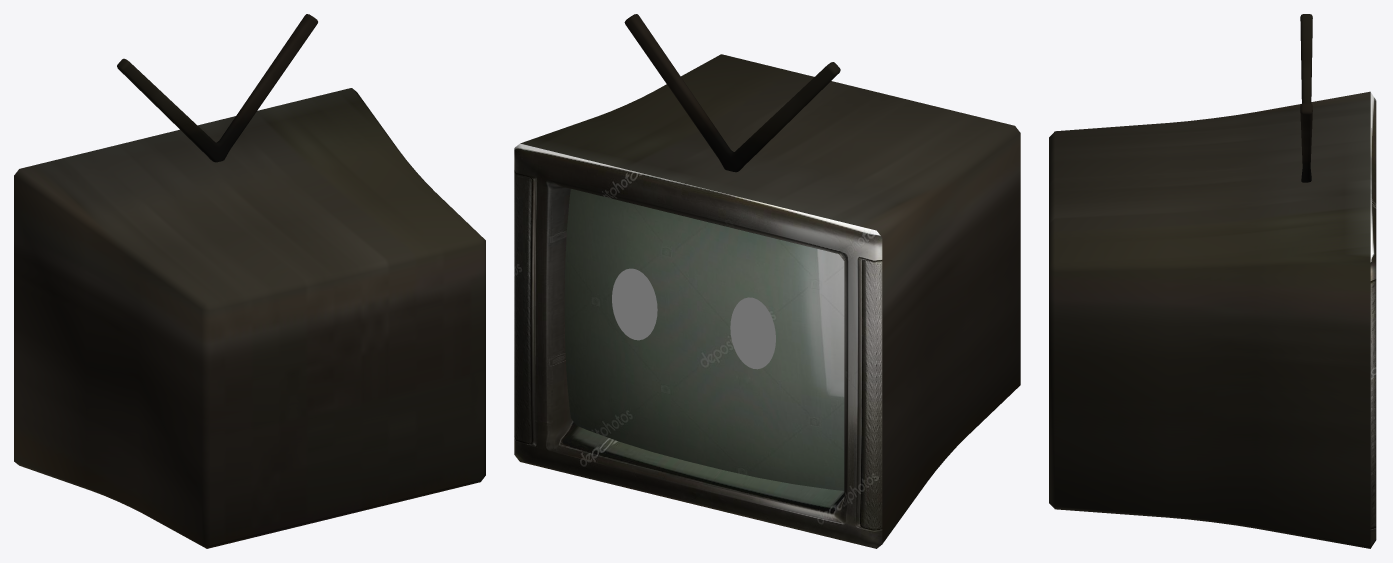
File: TV-Bot.fbx
3 renders of one model, left to right at view 1: azimuth 30°, elevation 25°; view 2: azimuth 150°, elevation 25°; view 3: azimuth 270°, elevation 25°, orthographic. The views are drawn at different scales.
Visible parts, largest first — view 1: TV-Bot; view 2: TV-Bot, TV-Bot-Eyes; view 3: TV-Bot.
Part boxes in pixels (x1,y1,x2,y2): TV-Bot: [14, 14, 485, 548]; TV-Bot: [514, 14, 1020, 548]; TV-Bot-Eyes: [612, 268, 775, 369]; TV-Bot: [1049, 14, 1376, 548].
Size of the model in its own units: 241 by 276 by 201.
